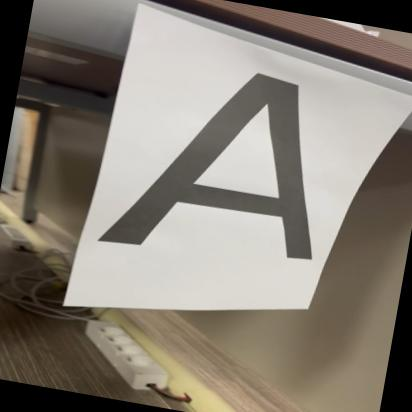seat: (96, 44, 348, 284)
